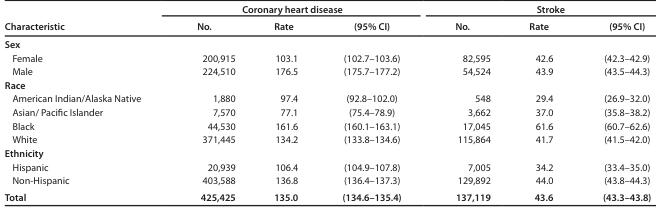table: (3, 3, 650, 202)
table column: (3, 3, 168, 202), (319, 3, 427, 202), (168, 3, 253, 202), (427, 3, 509, 202), (577, 3, 650, 202), (509, 3, 577, 202), (253, 3, 319, 202)
table column header: (3, 3, 650, 35)
table projected row header: (3, 35, 650, 51), (3, 146, 650, 160), (3, 78, 650, 91)
table row: (3, 17, 650, 35), (3, 35, 650, 51), (3, 173, 650, 188), (3, 3, 650, 17), (3, 64, 650, 78), (3, 91, 650, 105), (3, 105, 650, 119), (3, 132, 650, 146), (3, 146, 650, 160), (3, 188, 650, 202), (3, 51, 650, 64), (3, 78, 650, 91), (3, 119, 650, 132), (3, 160, 650, 173)
table spanning cell: (3, 3, 168, 35), (168, 3, 427, 17), (427, 3, 650, 17)
